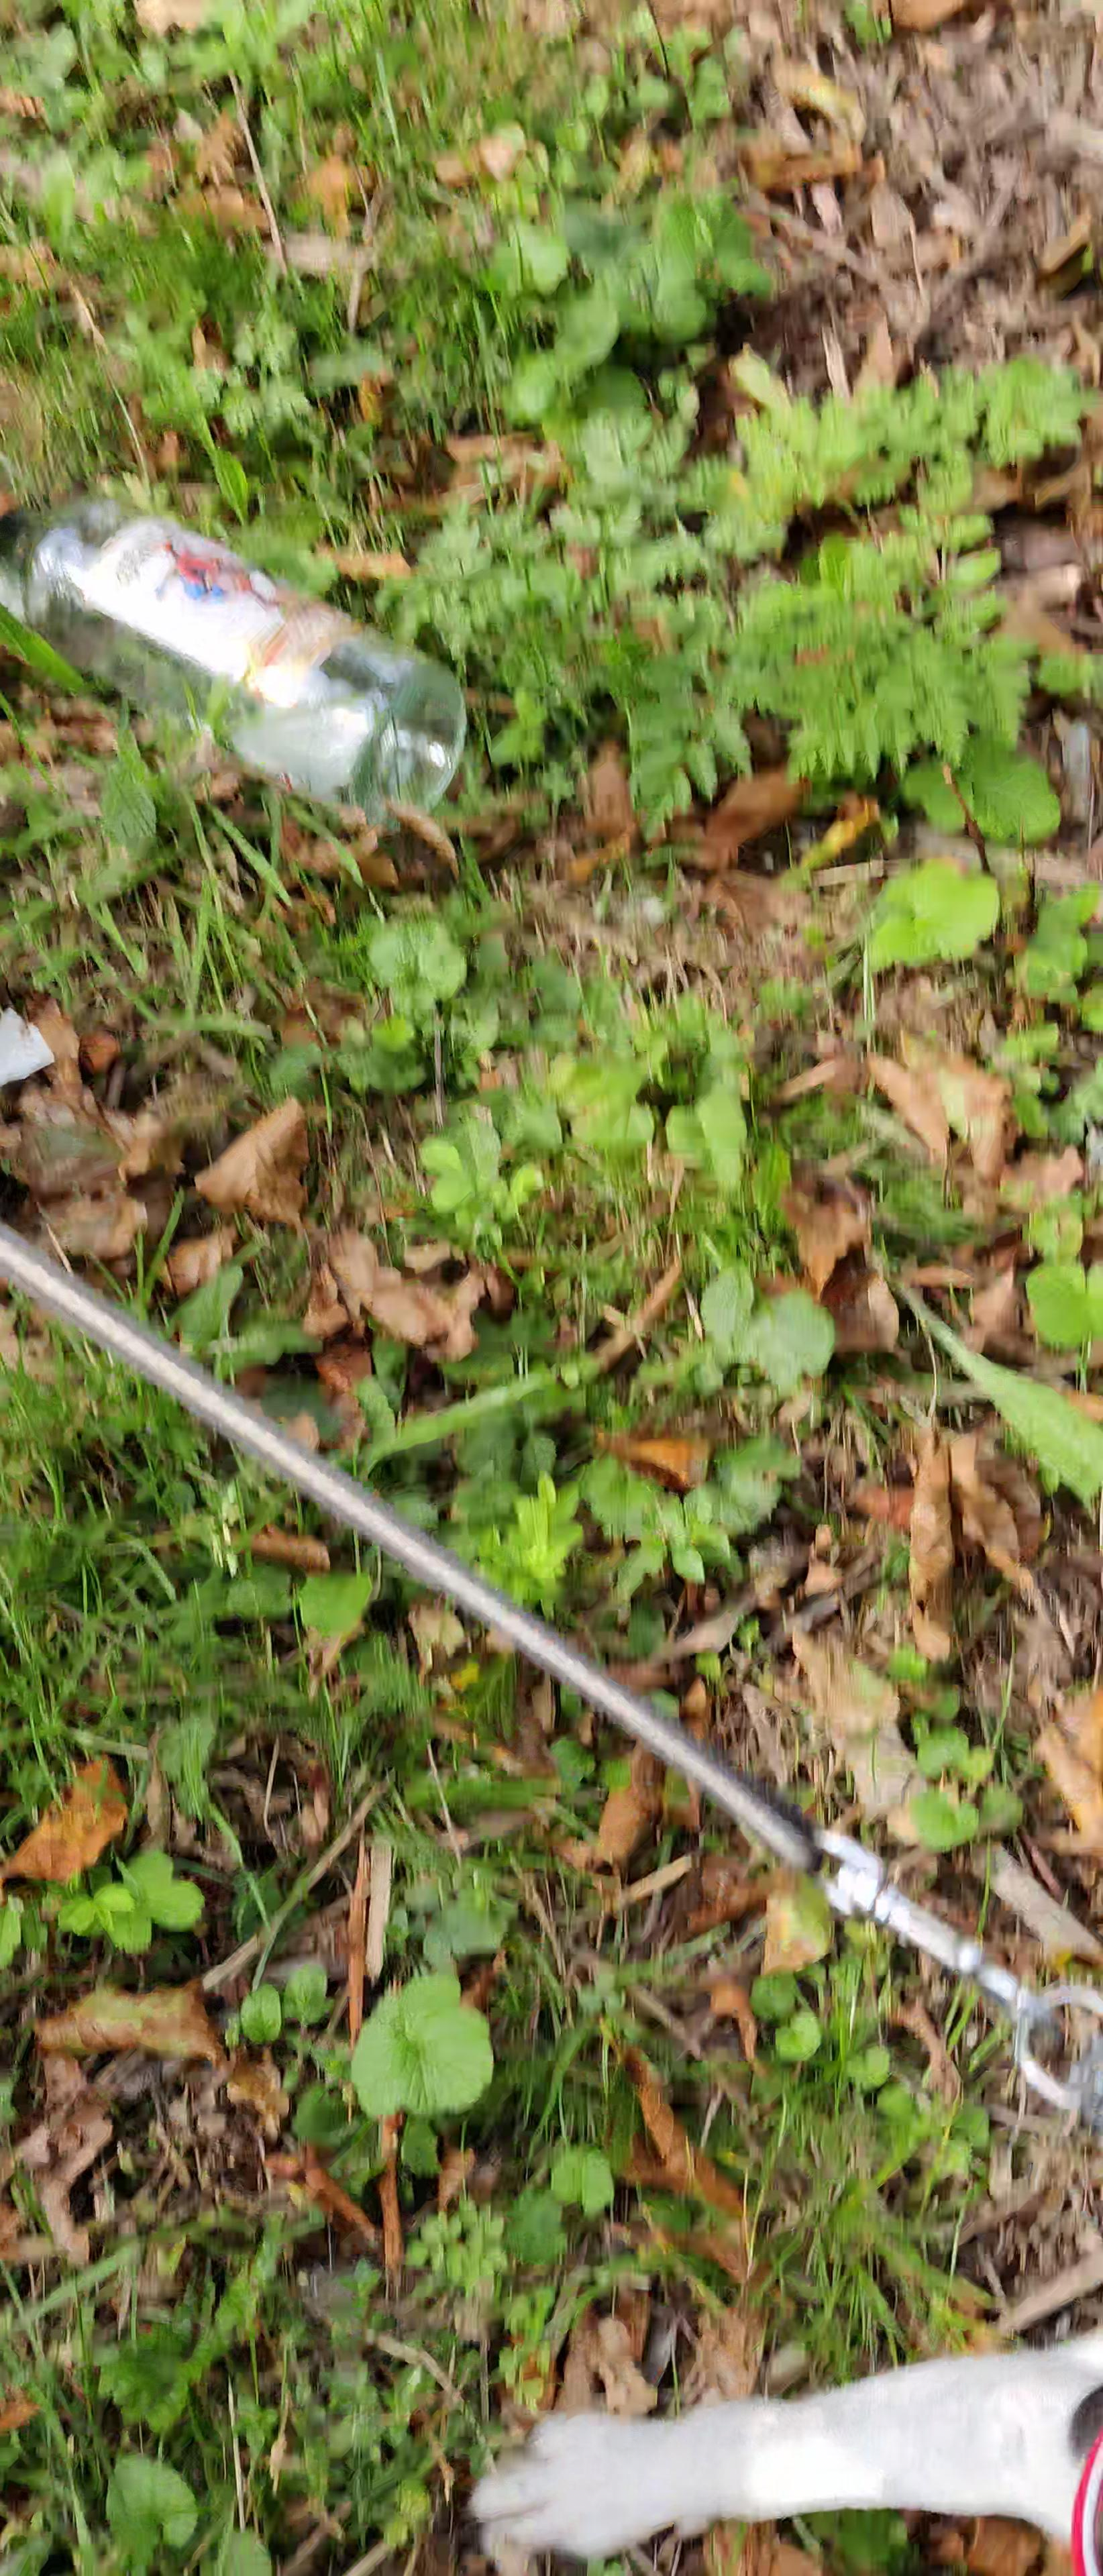Dog: (429, 2297, 1103, 2576)
